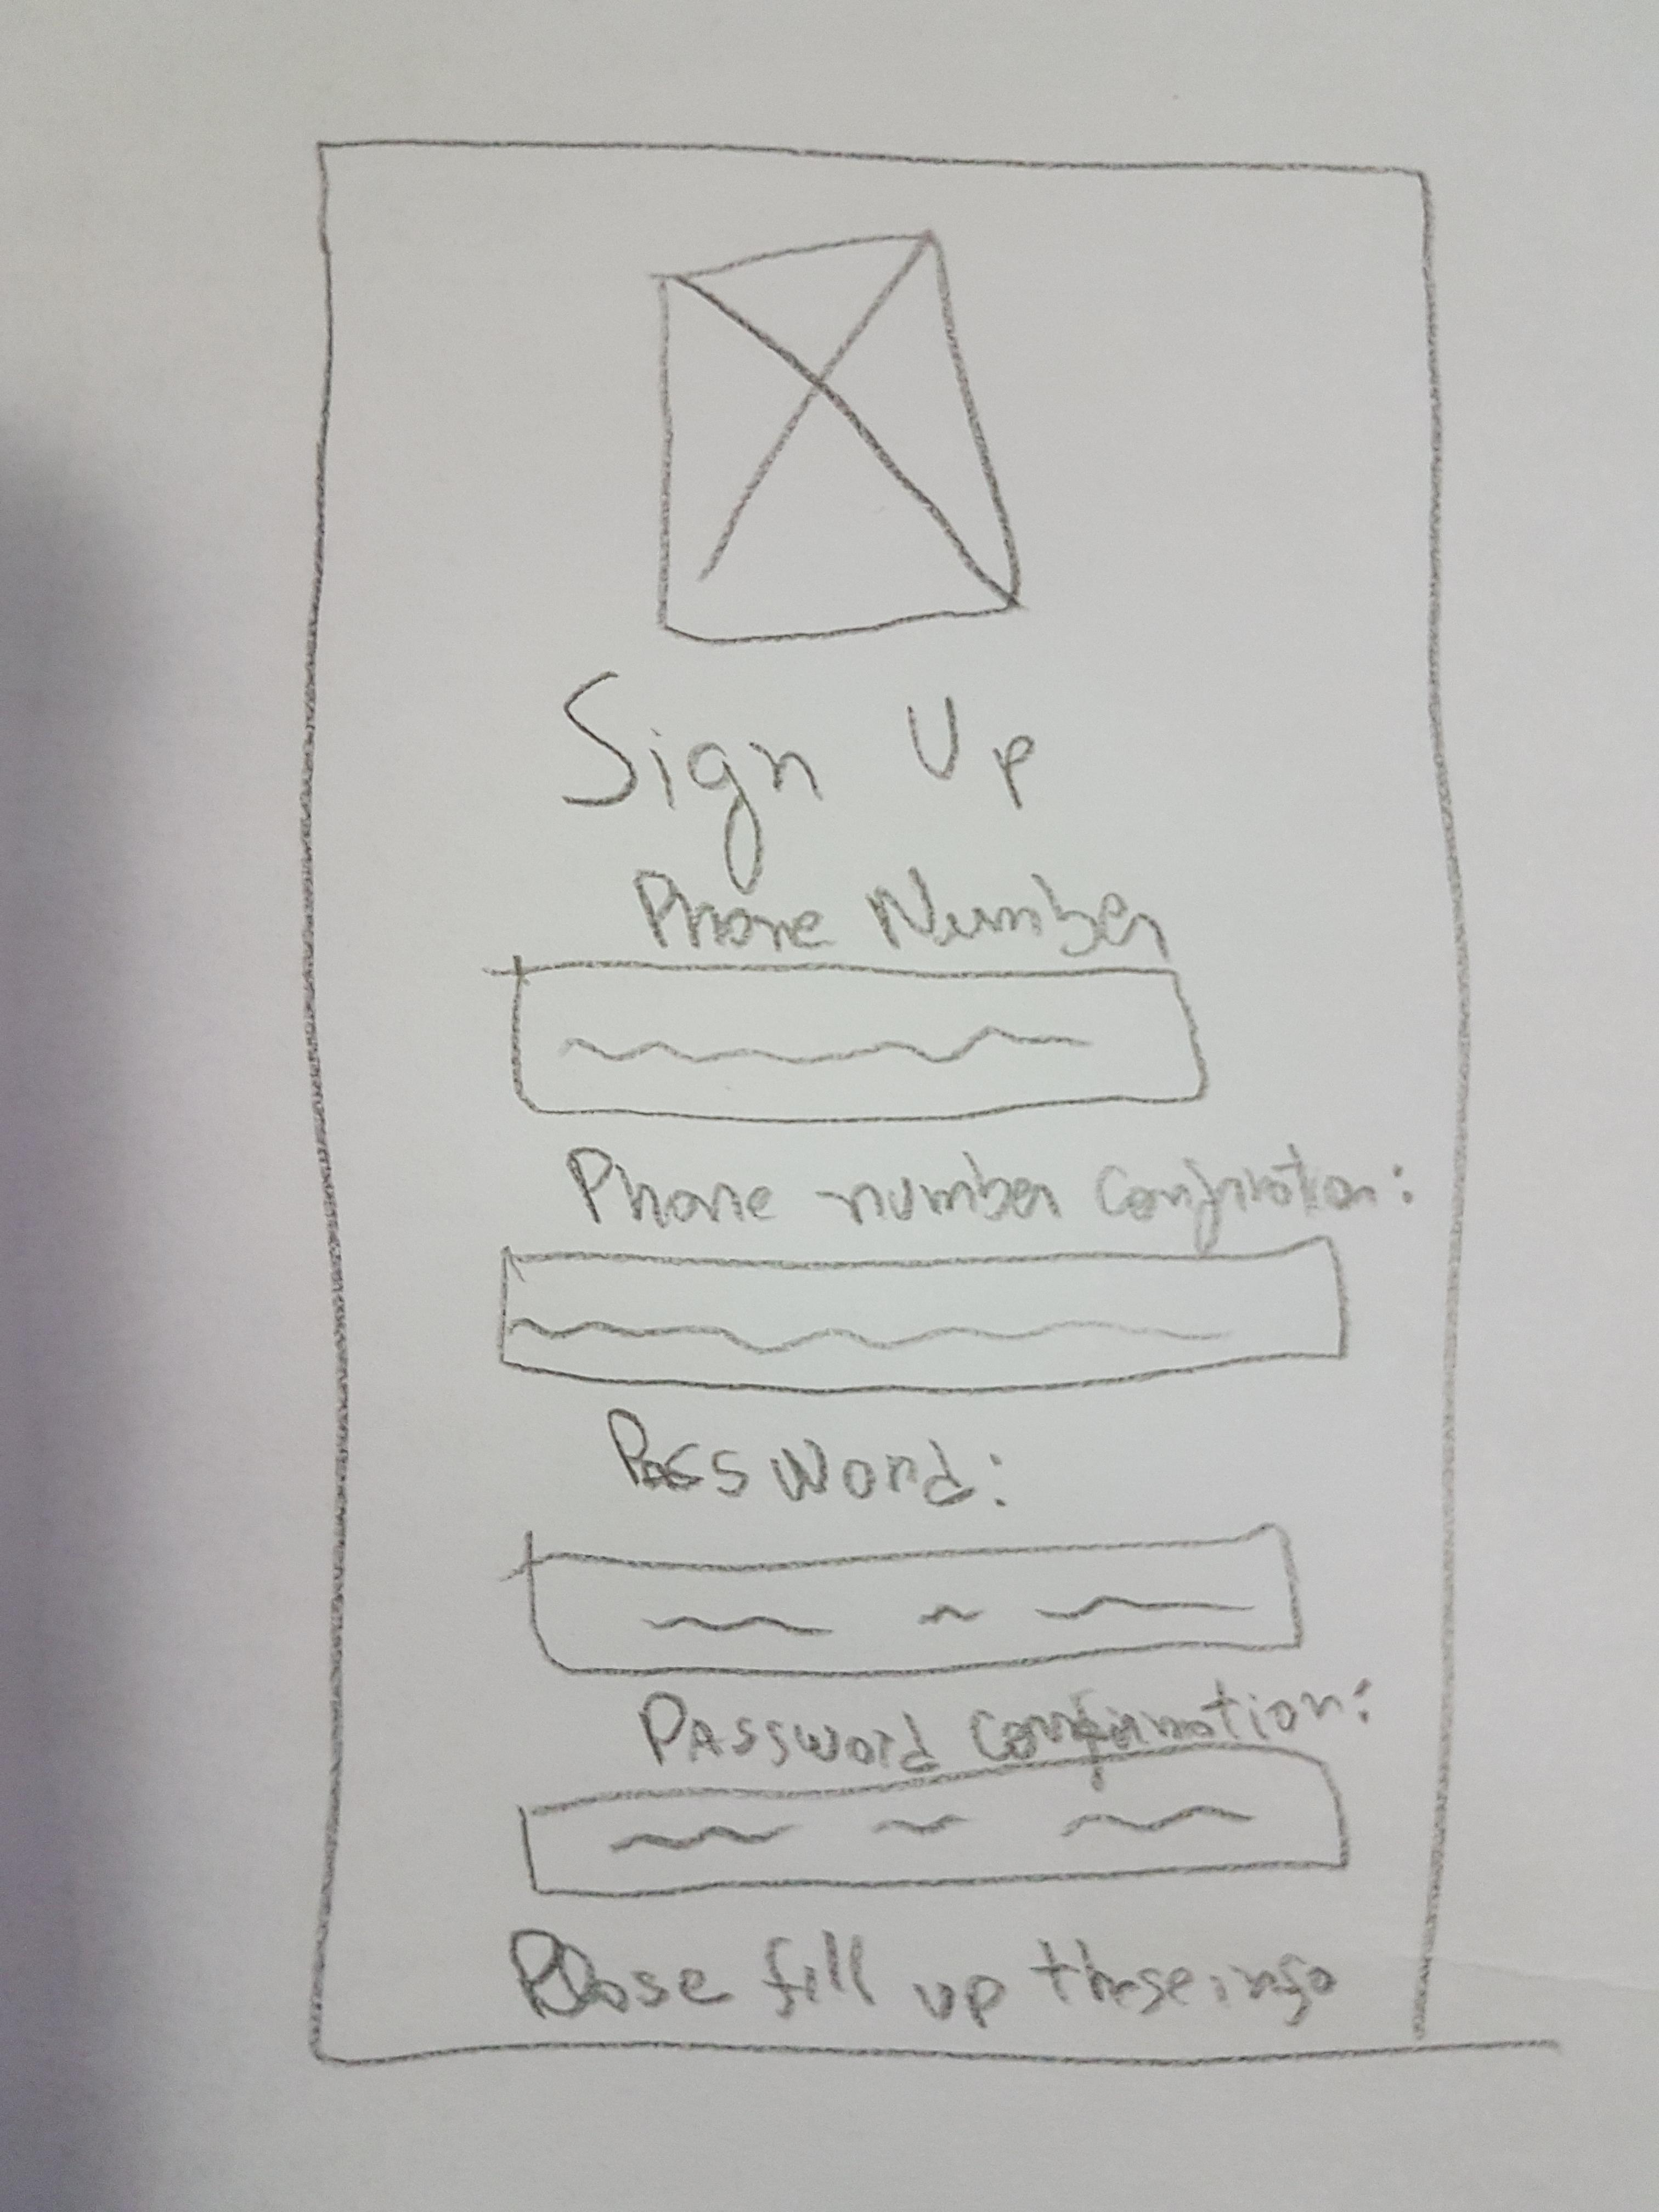Button: (519, 1742, 1349, 1897), (519, 1524, 1304, 1672)
Image: (650, 235, 1021, 641)
Label: (556, 667, 1037, 897), (561, 1141, 1422, 1254), (505, 1925, 1340, 2033), (627, 1677, 1375, 1785), (638, 873, 1176, 970), (603, 1402, 1018, 1517)
Screen: (305, 143, 1474, 2067)
TextBox: (498, 1235, 1347, 1395), (509, 961, 1211, 1116)
